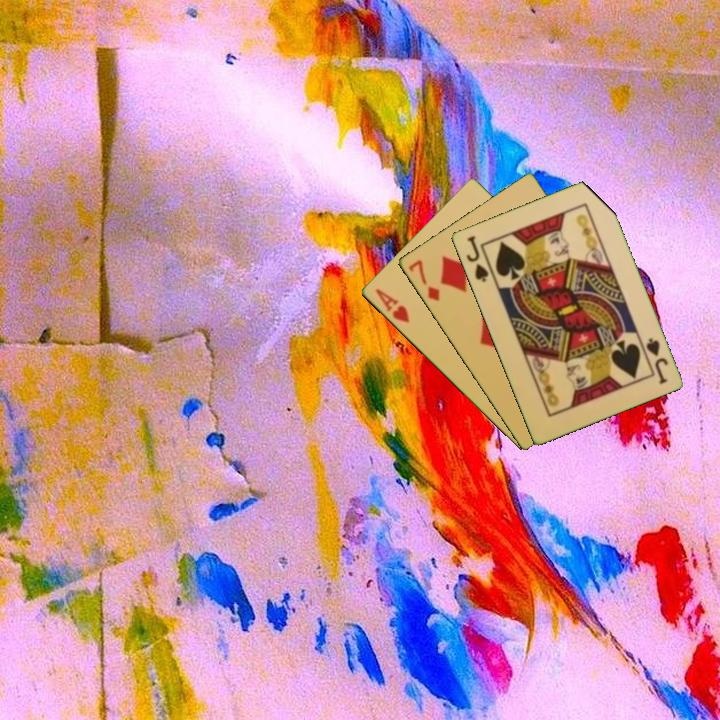7d: (405, 256, 442, 304)
Ah: (371, 285, 412, 326)
Js: (462, 232, 491, 285), (642, 334, 670, 387)
